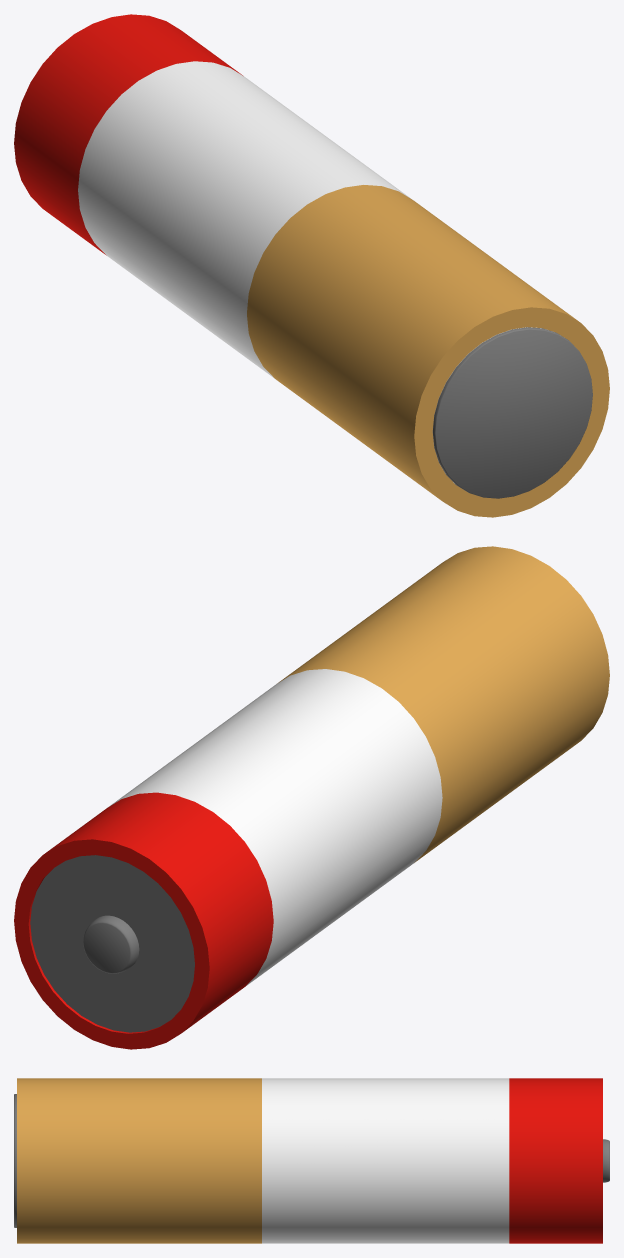
The model's file is батарейка.fbx.
3 views of the same model, one above another, from view 1: azimuth 30°, elevation 25°; view 2: azimuth 150°, elevation 25°; view 3: azimuth 270°, elevation 25° (orthographic). The views are drawn at different scales.
Visible parts, largest first — view 1: Cylinder; view 2: Cylinder; view 3: Cylinder.
Part boxes in pixels (x1=…): Cylinder: x1=14, y1=14, x2=609, y2=517; Cylinder: x1=14, y1=546, x2=609, y2=1049; Cylinder: x1=14, y1=1078, x2=609, y2=1243.
Bounding box in the file's own units: 67.15 × 67.15 × 242.
